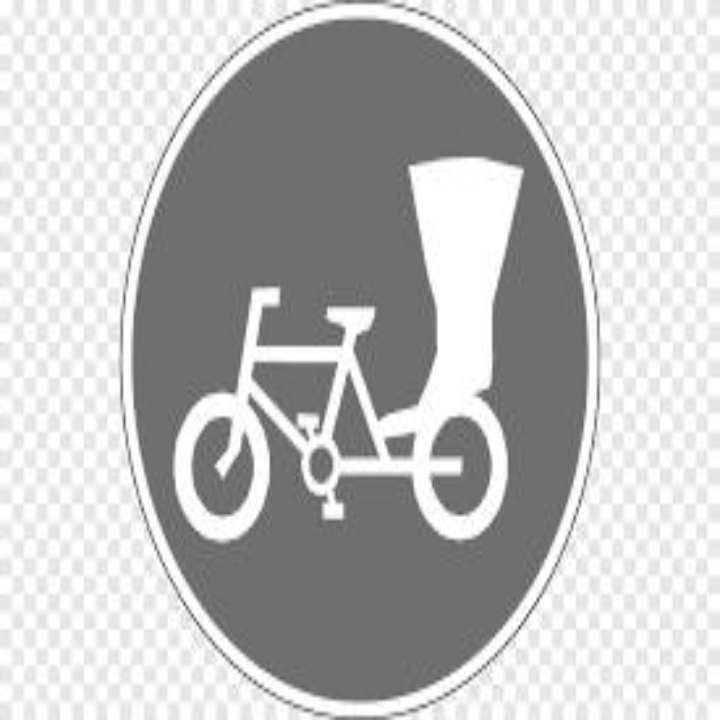bicycle: (111, 216, 524, 558)
